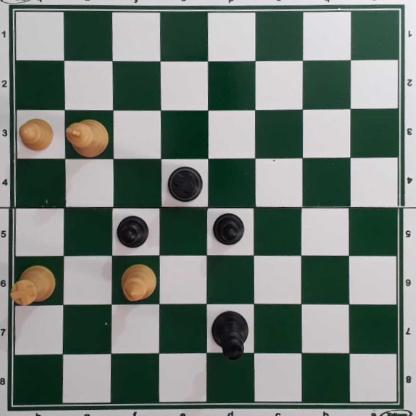black-king: (211, 310, 250, 362)
black-pawn: (212, 213, 246, 247), (117, 215, 149, 251)
black-rook: (168, 166, 202, 202)
white-bishop: (122, 264, 155, 303)
white-king: (66, 119, 111, 157)
white-pawn: (19, 119, 55, 152)
white-rook: (13, 265, 56, 307)
